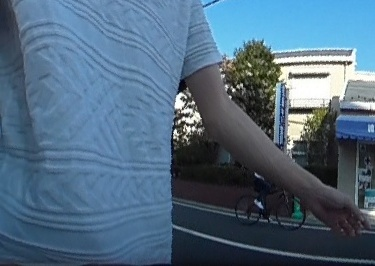person: (251, 167, 272, 214)
